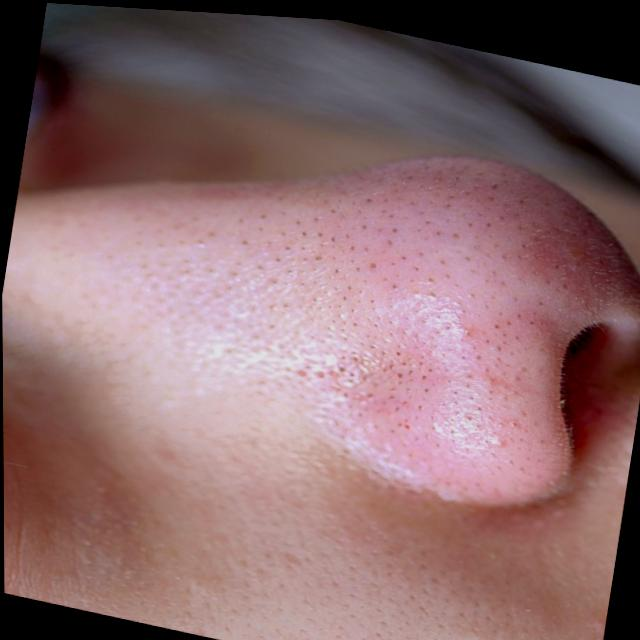blackhead: (92, 165, 577, 485)
